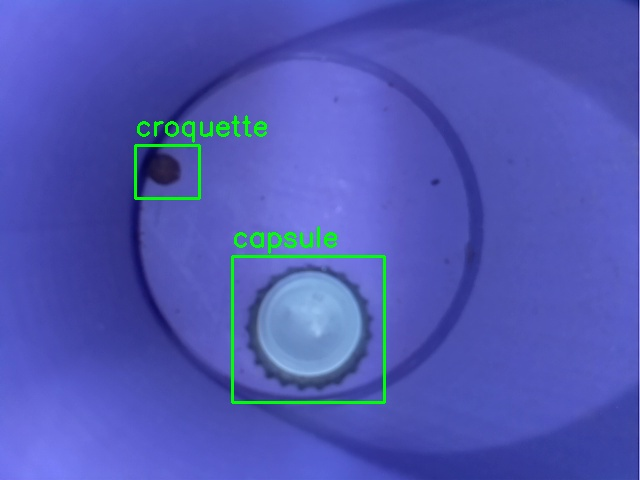capsule: (232, 256, 384, 402)
croquette: (135, 145, 199, 198)
